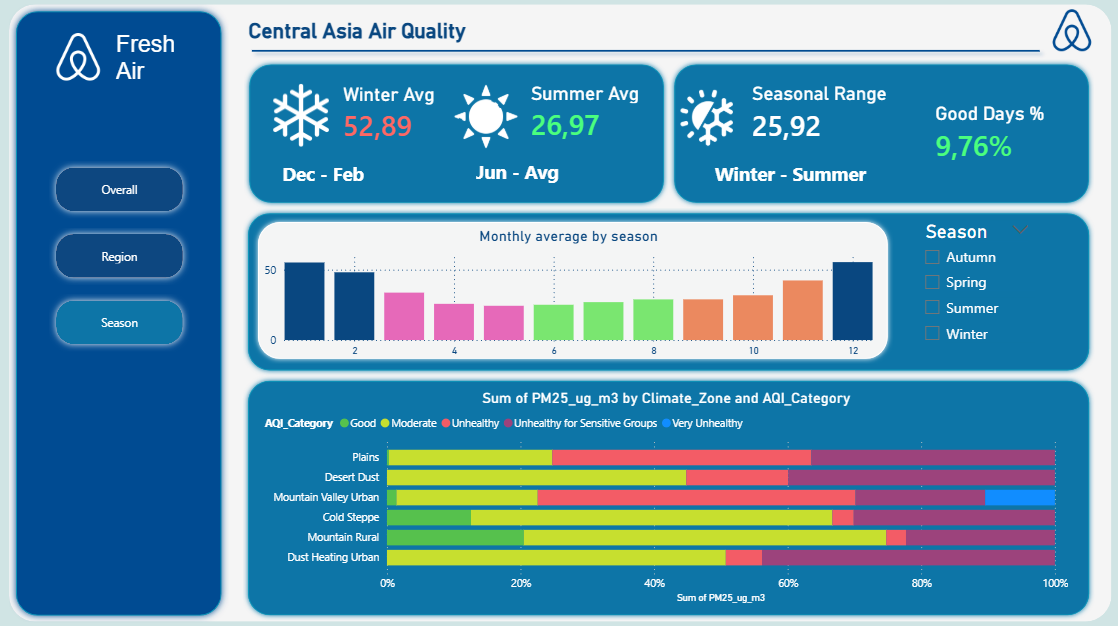

The dashboard page shown, as its layout file describes it:
{"tool":"powerbi","page":{"name":"Season","canvas":[1280,720],"ordinal":2},"visuals":[{"type":"shape","box":[11.4,6.4,1260,705.7],"z":0},{"type":"shape","box":[10.8,6.7,250.8,706.7],"z":1000},{"type":"image","box":[1188.3,13.3,75,48.3],"z":2000},{"type":"image","box":[53.3,40,75.3,54.7],"z":3000},{"type":"shape","box":[278.3,240,973.3,191.7],"z":4000},{"type":"textbox","box":[128.7,32.7,86.7,73.3],"z":5000},{"type":"shape","box":[280,33.3,918.3,55],"z":6000},{"type":"shape","box":[280,70,485.7,170],"z":7000},{"type":"shape","box":[765.7,70,485.7,170],"z":8000},{"type":"shape","box":[278.3,431.7,973.3,280],"z":9000},{"type":"cardVisual","fields":{"Data":["All measures.Winter Avg"]},"box":[280,70,260,128.3],"z":10000},{"type":"cardVisual","fields":{"Data":["All measures.Summer Avg"]},"box":[488.3,71.7,276.7,128.3],"z":11000},{"type":"textbox","box":[318.3,181.7,115,40],"z":12000},{"type":"textbox","box":[540,178.3,115,40],"z":13000},{"type":"cardVisual","fields":{"Data":["All measures.Seasonal Range"]},"box":[740,73.3,335,128.3],"z":14000},{"type":"textbox","box":[813.3,181.7,190,40],"z":15000},{"type":"cardVisual","fields":{"Data":["All measures.Good Days %"]},"box":[1041.7,90,185,128.3],"z":16000},{"type":"shape","box":[290,250,731.7,168.3],"z":17000},{"type":"clusteredColumnChart","title":"Monthly average by season ","fields":{"Category":["central_asia_air.Month"],"Y":["Avg(central_asia_air.PM25_ug_m3)"]},"box":[298.3,261.7,705,156.7],"z":19000},{"type":"slicer","fields":{"Values":["central_asia_air.Season"]},"box":[1045,250,143.3,181.7],"z":20000},{"type":"hundredPercentStackedBarChart","fields":{"Category":["central_asia_air.Climate_Zone"],"Series":["central_asia_air.AQI_Category"],"Y":["Sum(central_asia_air.PM25_ug_m3)"]},"box":[298.3,446.7,928.3,250],"z":21000},{"type":"pageNavigator","box":[56.7,185,161.7,220],"z":22000},{"type":"textbox","box":[280,18.6,300,42.9],"z":23000}]}

Visuals, with their boxes in screenshot pixels (x1, y1, x2, y2), scaled from the page's 1280x720 canvas onto the 1118x626 screenshot:
shape: 10, 6, 1110, 619
shape: 9, 6, 228, 620
image: 1038, 12, 1103, 54
image: 47, 35, 112, 82
shape: 243, 209, 1093, 375
textbox: 112, 28, 188, 92
shape: 245, 29, 1047, 77
shape: 245, 61, 669, 209
shape: 669, 61, 1093, 209
shape: 243, 375, 1093, 619
cardVisual - All measures.Winter Avg: 245, 61, 472, 172
cardVisual - All measures.Summer Avg: 426, 62, 668, 174
textbox: 278, 158, 378, 193
textbox: 472, 155, 572, 190
cardVisual - All measures.Seasonal Range: 646, 64, 939, 175
textbox: 710, 158, 876, 193
cardVisual - All measures.Good Days %: 910, 78, 1071, 190
shape: 253, 217, 892, 364
"Monthly average by season " clusteredColumnChart: 261, 228, 876, 364
slicer - central_asia_air.Season: 913, 217, 1038, 375
hundredPercentStackedBarChart - central_asia_air.Climate_Zone x central_asia_air.AQI_Category: 261, 388, 1071, 606
pageNavigator: 50, 161, 191, 352
textbox: 245, 16, 507, 53
